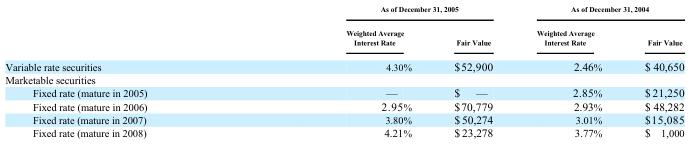table: (4, 4, 683, 138)
table column: (4, 4, 246, 138), (246, 4, 432, 138), (514, 4, 622, 138), (432, 4, 514, 138), (622, 4, 683, 138)
table column header: (4, 4, 683, 52)
table projected row header: (4, 73, 683, 85)
table row: (4, 20, 683, 52), (4, 52, 683, 73), (4, 4, 683, 20), (4, 85, 683, 99), (4, 99, 683, 112), (4, 112, 683, 125), (4, 125, 683, 138), (4, 73, 683, 85)
table spanning cell: (246, 4, 514, 20), (514, 4, 683, 20)
